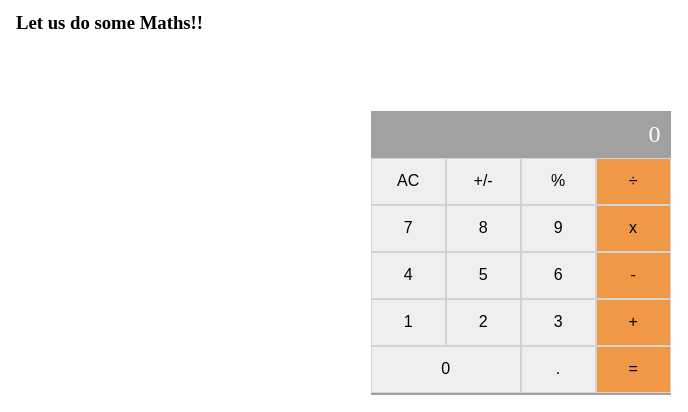
run test for the calculator component › run to check events to the calculator
The image size is (688, 412).
Click the button with test id "7": [408, 228] box x1=371 y1=205 x2=446 y2=252
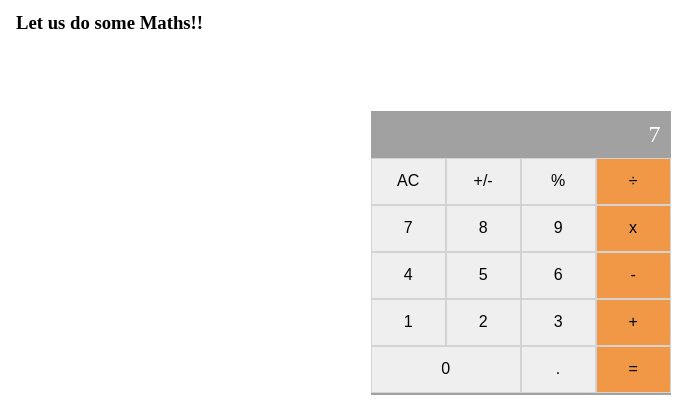
Click the button with test id "+": [633, 322] box x1=596 y1=299 x2=671 y2=346
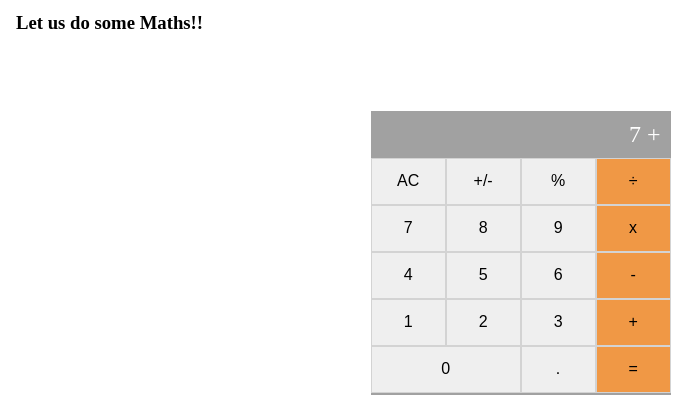
Click the button with test id "9": [558, 228] box x1=521 y1=205 x2=596 y2=252
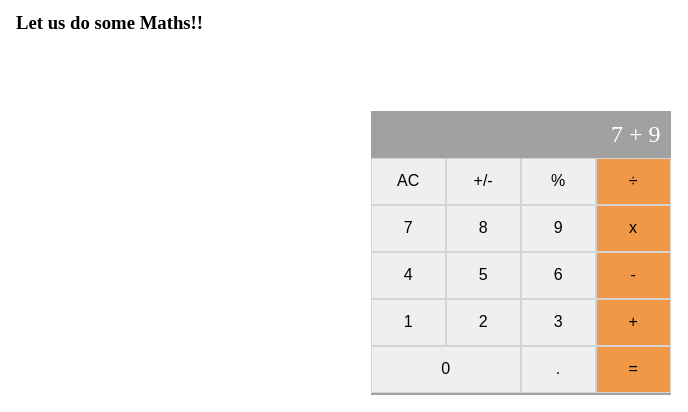
Click the button with test id "=": [633, 369] box x1=596 y1=346 x2=671 y2=393
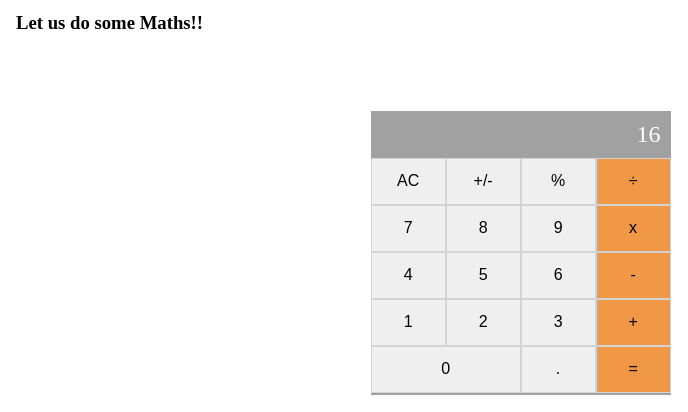
Result: the text with test id "display" reads "16" at x1=637 y1=121 x2=661 y2=147
